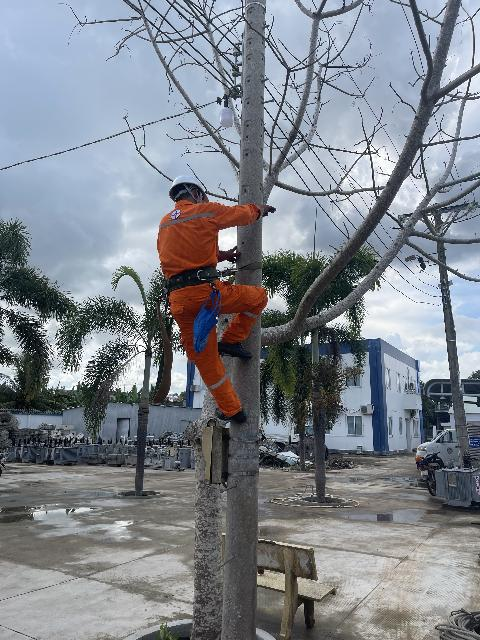gloves: (213, 248, 245, 263), (254, 204, 279, 220)
harness: (155, 256, 267, 291)
helmet: (164, 162, 217, 211)
shoes: (213, 332, 258, 368), (203, 400, 253, 428)
